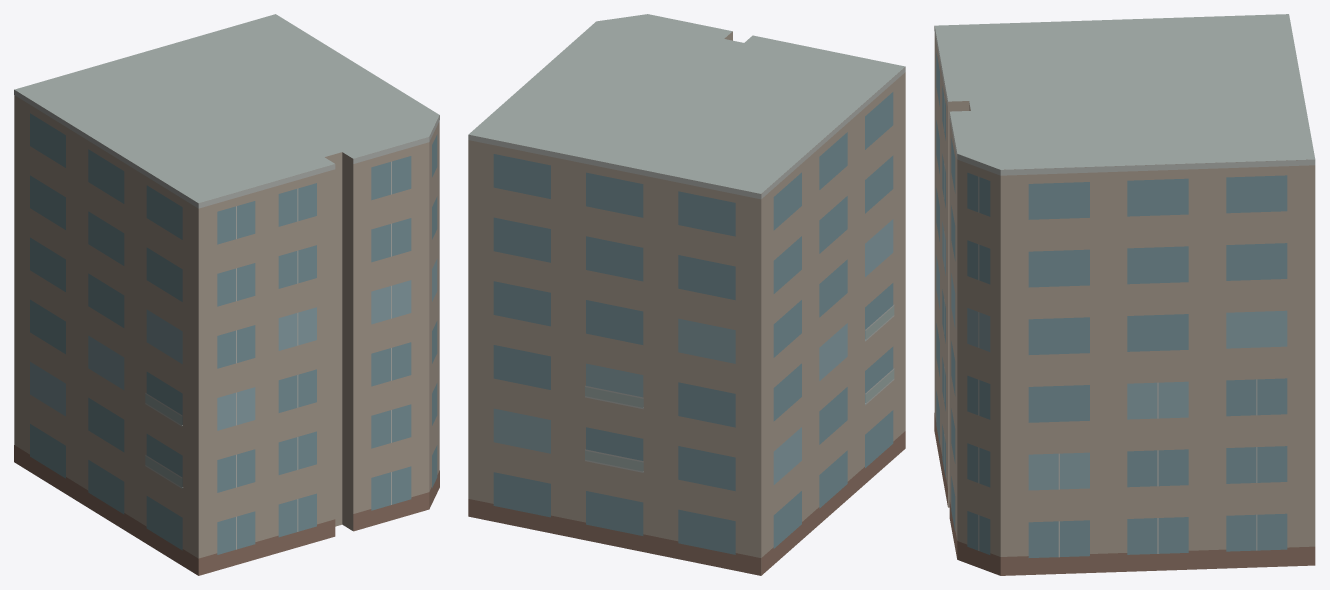
File: survey-upis-32739102.glb
3 views of the same model, side by side, from view 1: azimuth 30°, elevation 25°; view 2: azimuth 150°, elevation 25°; view 3: azimuth 270°, elevation 25° (orthographic). The views are drawn at different scales.
Visible parts, largest first — view 1: survey-upis-32739102.tmp; view 2: survey-upis-32739102.tmp; view 3: survey-upis-32739102.tmp.
Part boxes in pixels (<box>): survey-upis-32739102.tmp: <box>14,14,439,575</box>; survey-upis-32739102.tmp: <box>468,14,905,575</box>; survey-upis-32739102.tmp: <box>934,14,1315,575</box>.
Bounding box in the file's own units: 14.09 × 17.1 × 14.55.
